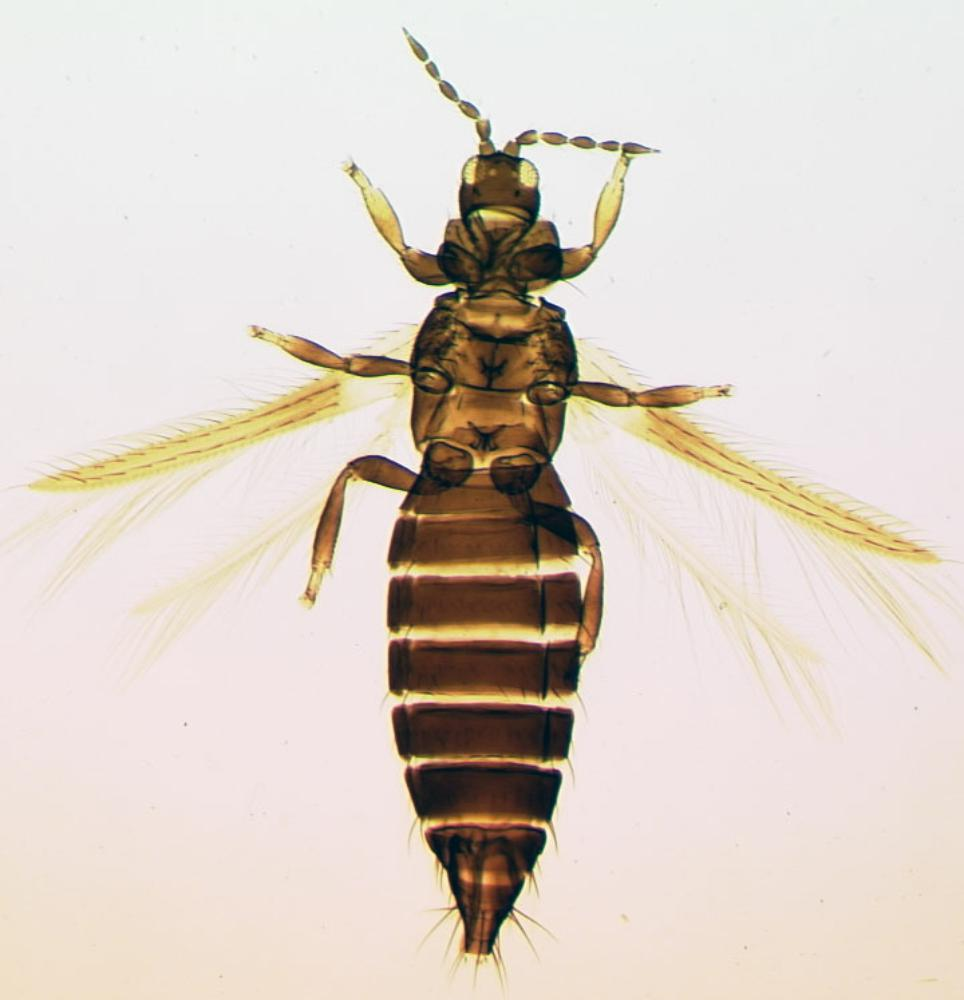Thripidae: (29, 31, 964, 982)
